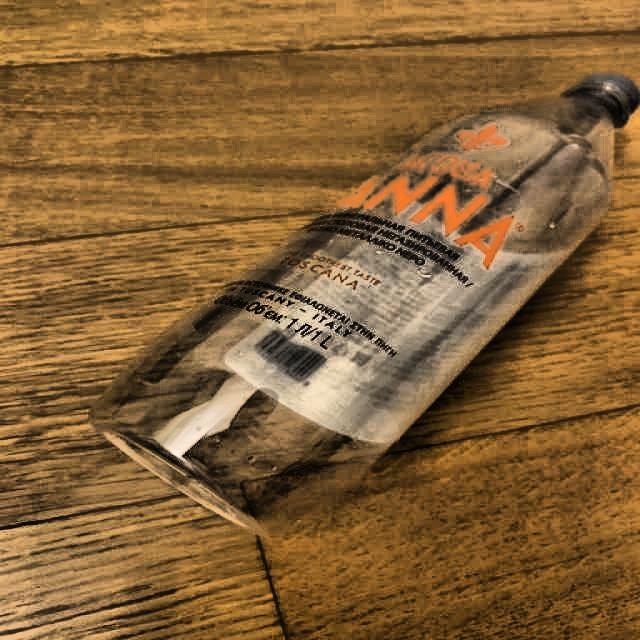plastic bottle: (94, 75, 640, 536)
